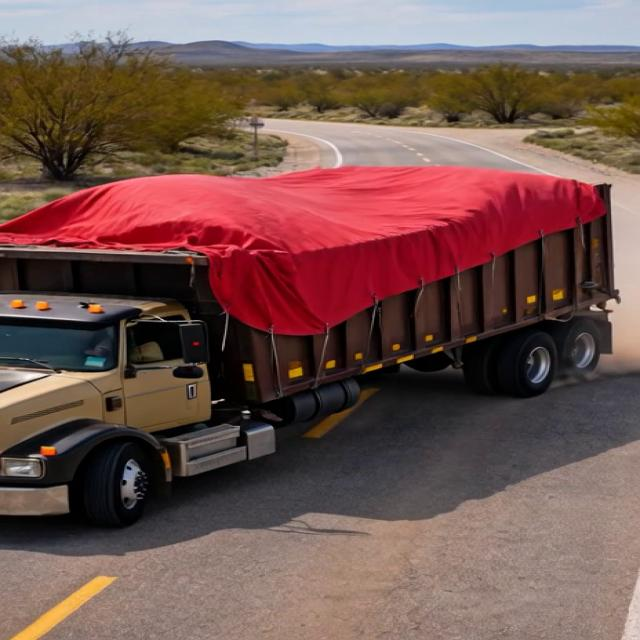trailer: (0, 155, 610, 274)
truck: (10, 142, 624, 529)
